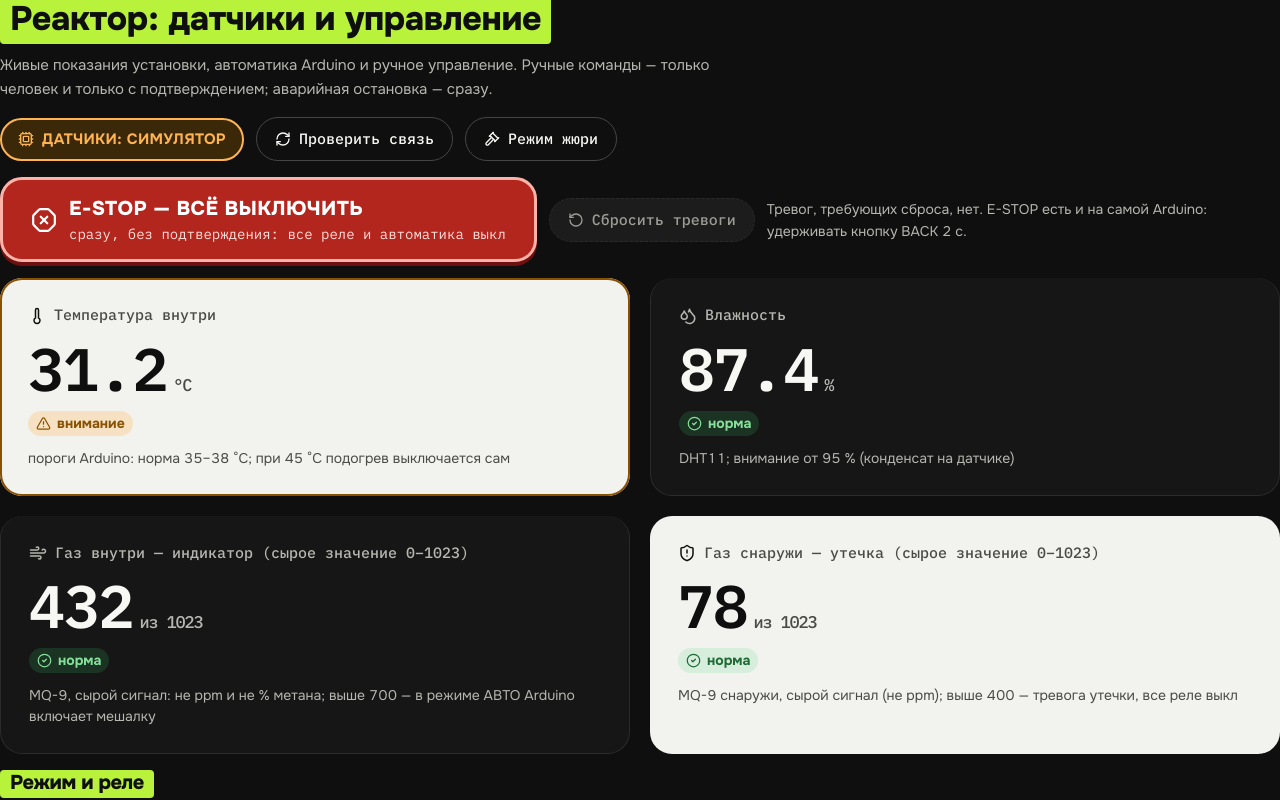
Test: Reactor page › E-STOP: one click, no confirmation
Step 1. Click the button with test id "rx-estop" → x=268, y=220, box [0, 177, 537, 262]
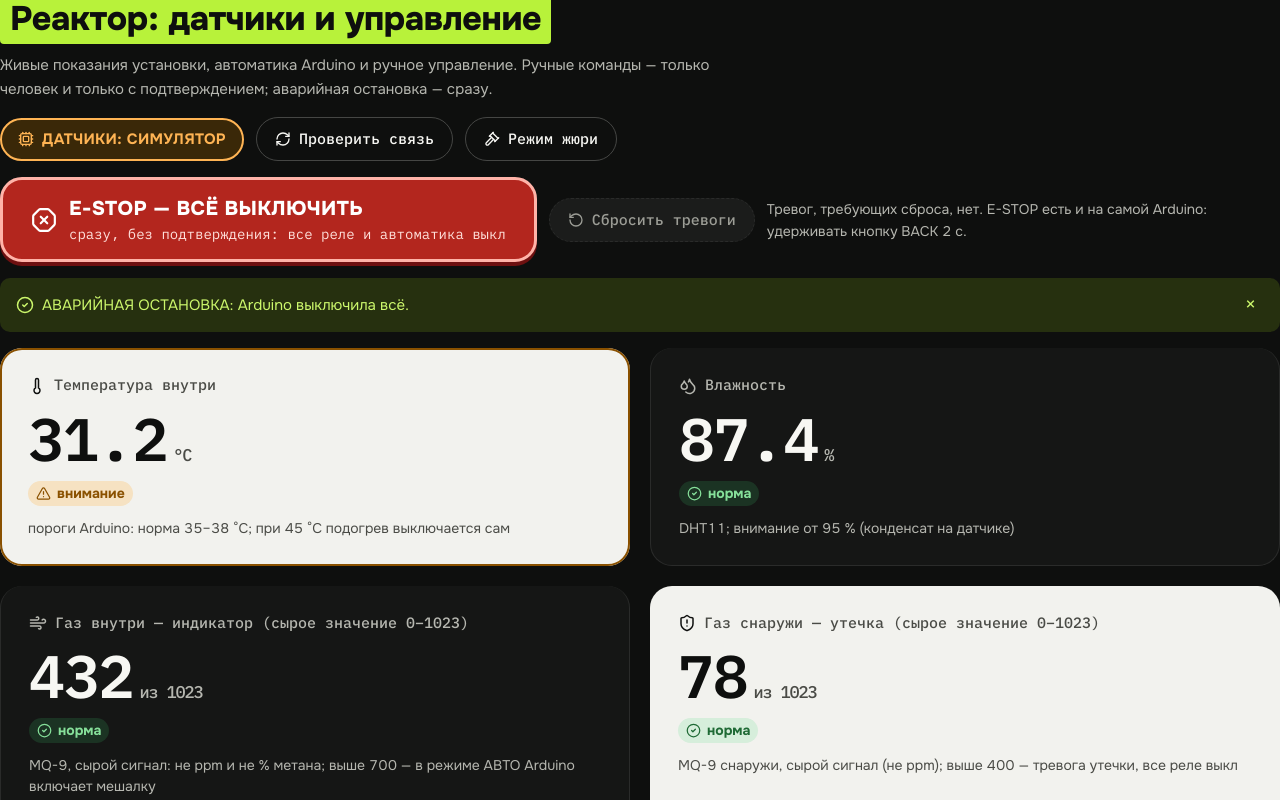
Expected: the message with test id "rx-message" shows "АВАРИЙНАЯ ОСТАНОВКА", [42, 295, 409, 315]
